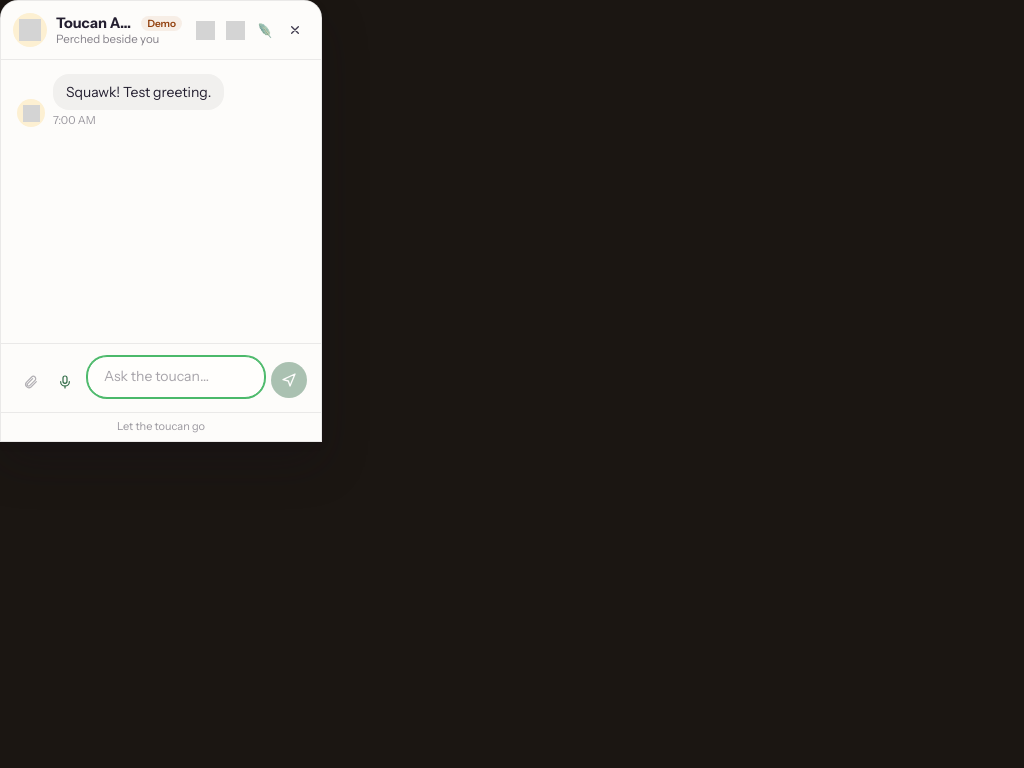
Scenario: Toucan T10 multimodal composer preparation › inserts a dictated transcript into the existing draft
The image size is (1024, 768).
Type "hey" into the text box named "Message the toucan". click: (176, 377)
box: [87,356,265,398]
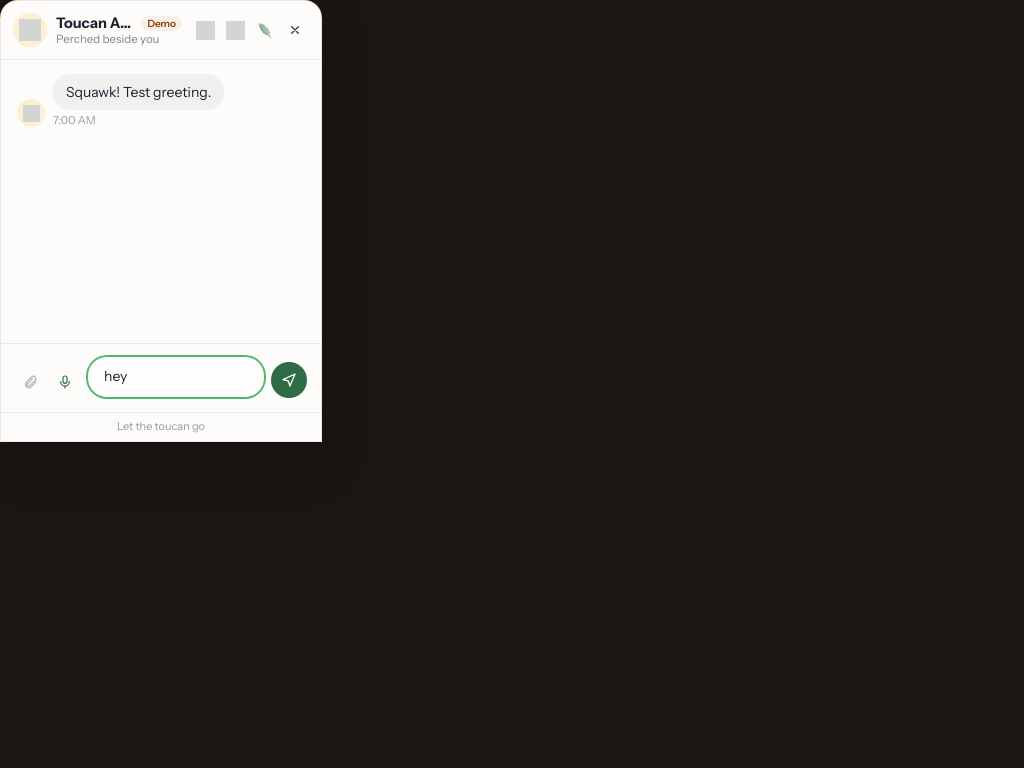
Click the button named "Dictate a message". click: (65, 382)
box: [49,366,81,398]
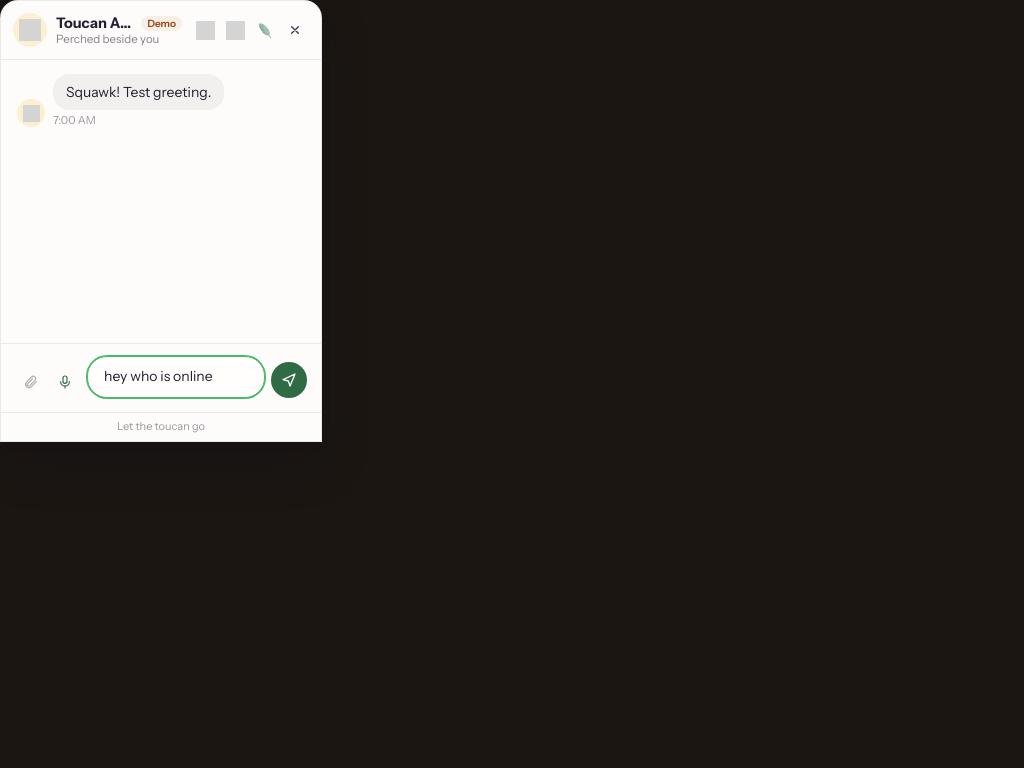
Expected: the button named "Send" is enabled, [271,362,307,398]
Expected: the text box named "Message the toucan" holds "hey who is online", [87,356,265,398]
